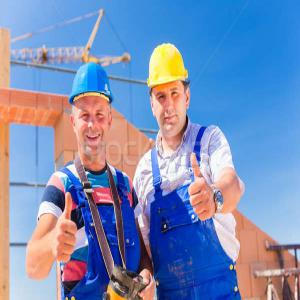blue: (69, 62, 116, 157)
yellow: (147, 43, 193, 141)
